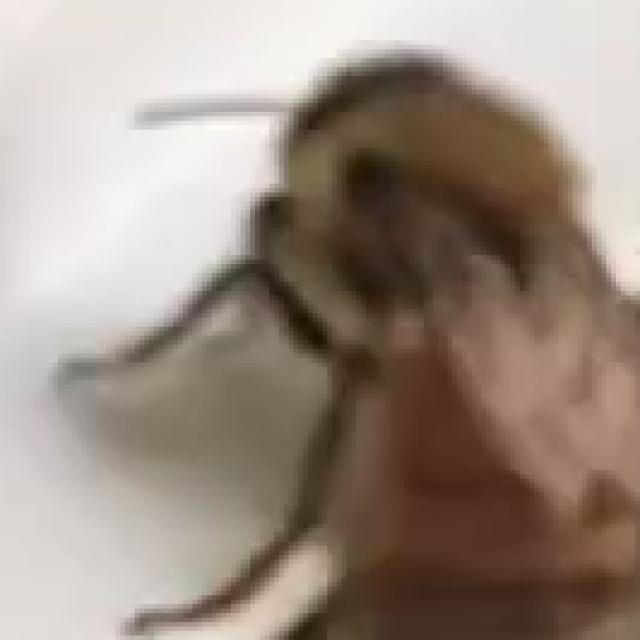honeybee: (117, 43, 608, 640)
